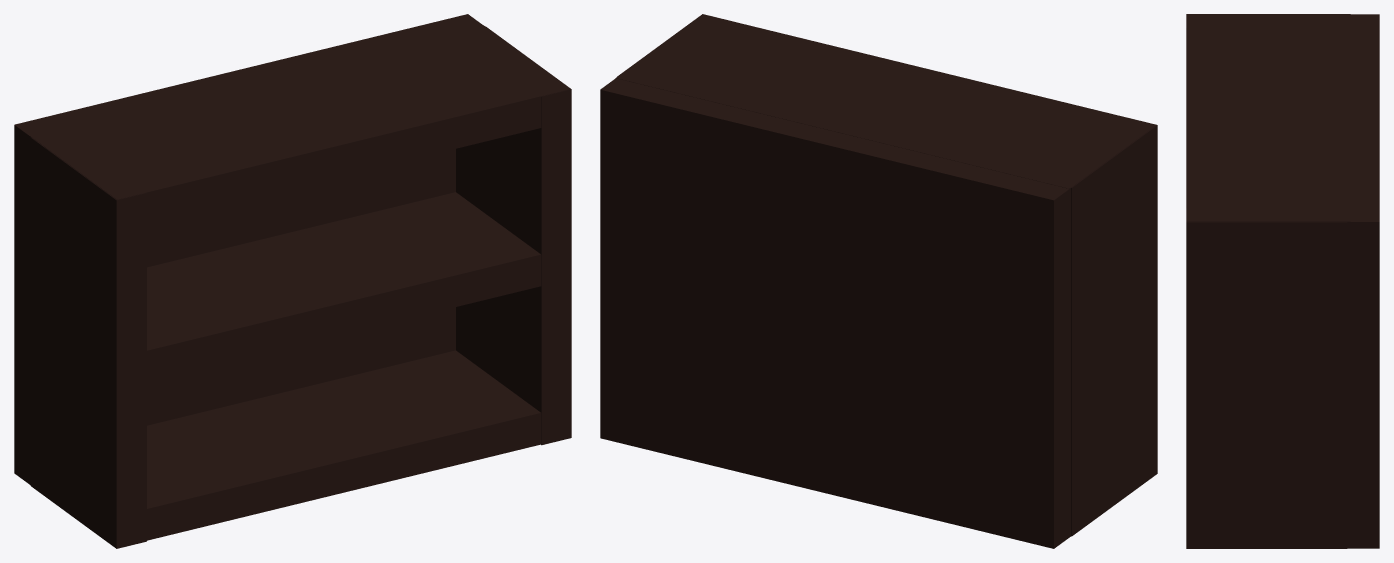
File: Shelf.fbx
3 views of the same model, side by side, from view 1: azimuth 30°, elevation 25°; view 2: azimuth 150°, elevation 25°; view 3: azimuth 270°, elevation 25° (orthographic). The views are drawn at different scales.
Visible parts, largest first — view 1: Cube, Cube.003, Cube.001, Cube.002; view 2: Cube.002, Cube.001, Cube.003; view 3: Cube.003, Cube.001, Cube.002.
Part boxes in pixels (<box>): Cube: <box>29,192,541,540</box>; Cube.003: <box>30,26,571,548</box>; Cube.001: <box>29,25,570,223</box>; Cube.002: <box>14,14,482,484</box>; Cube.002: <box>600,78,1070,548</box>; Cube.001: <box>616,14,1156,219</box>; Cube.003: <box>617,14,1157,536</box>; Cube.003: <box>1186,14,1347,548</box>; Cube.001: <box>1186,14,1350,251</box>; Cube.002: <box>1347,14,1379,548</box>.
Size of the model in its own units: 602 by 441 by 236.
